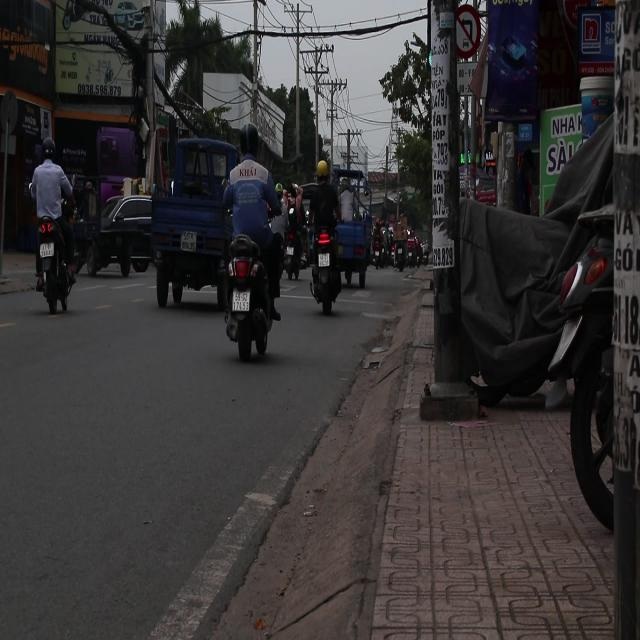car: (90, 193, 156, 278)
motorbike: (221, 230, 276, 361), (29, 214, 74, 316), (307, 220, 344, 313), (282, 204, 310, 284)
truck: (151, 128, 238, 310)
